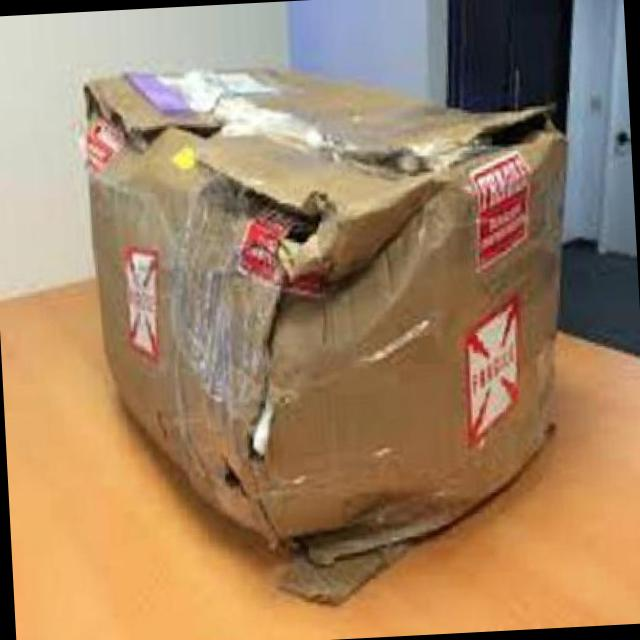box: (79, 62, 571, 606)
crushed: (214, 468, 477, 603), (224, 170, 424, 341)
tear: (233, 371, 284, 465)
